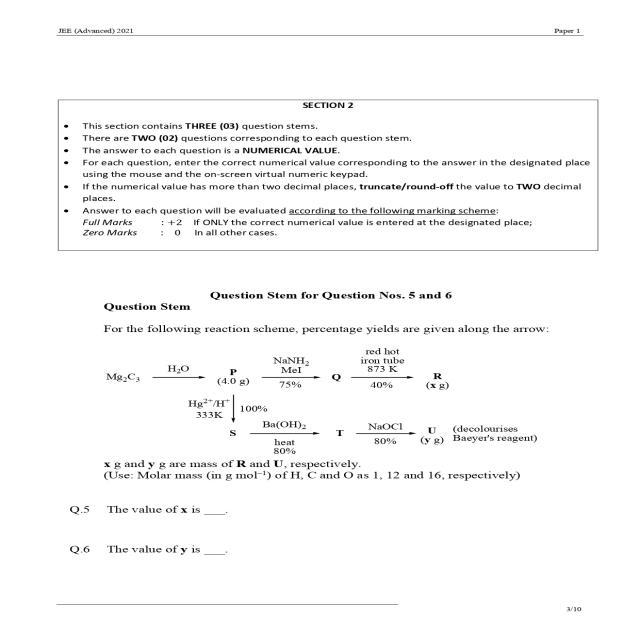Instruction: (26, 76, 620, 259)
Question_Answer_Block: (26, 317, 620, 486), (26, 524, 620, 574), (26, 484, 620, 528)
Question_Block: (26, 320, 620, 486), (26, 524, 620, 574), (26, 484, 620, 528)
Question_Paper_Area: (26, 76, 620, 595)
